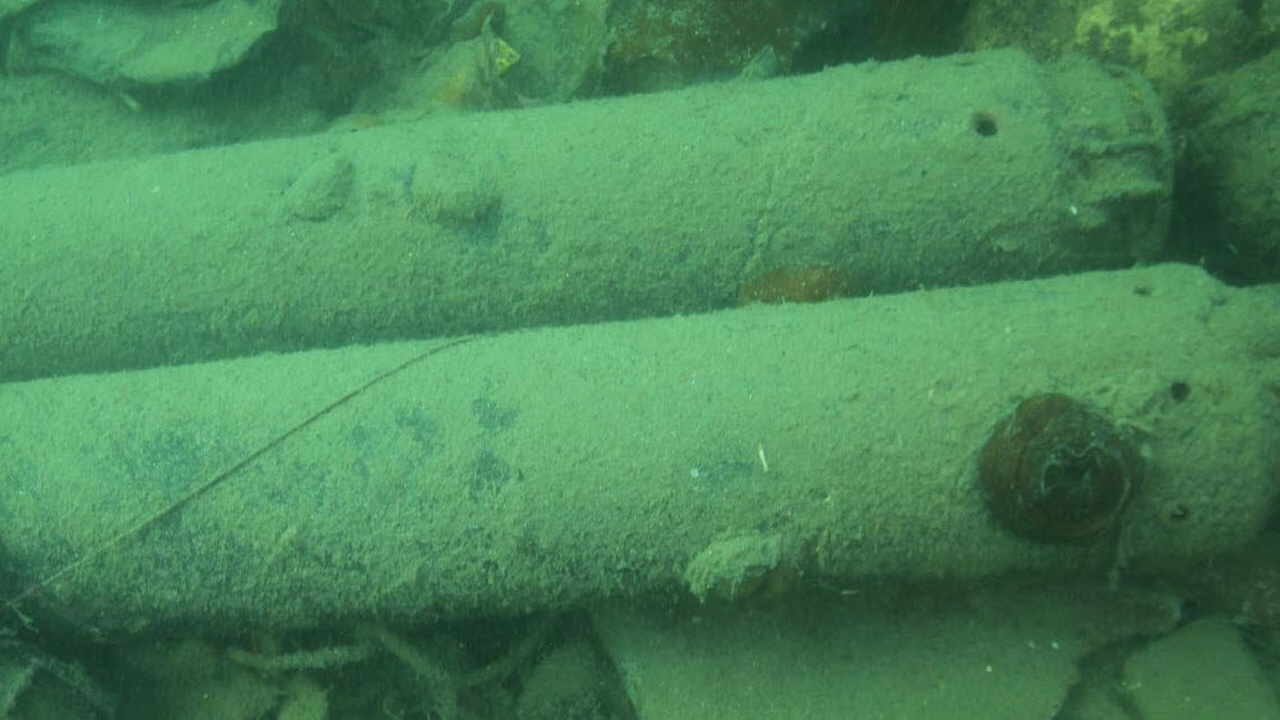eel fish trap: (0, 264, 1278, 648), (0, 45, 1178, 384)
